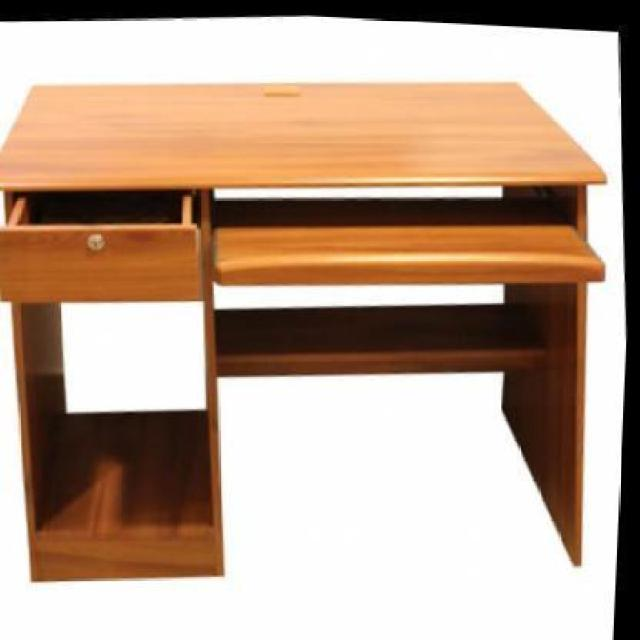tables: (0, 78, 608, 580)
